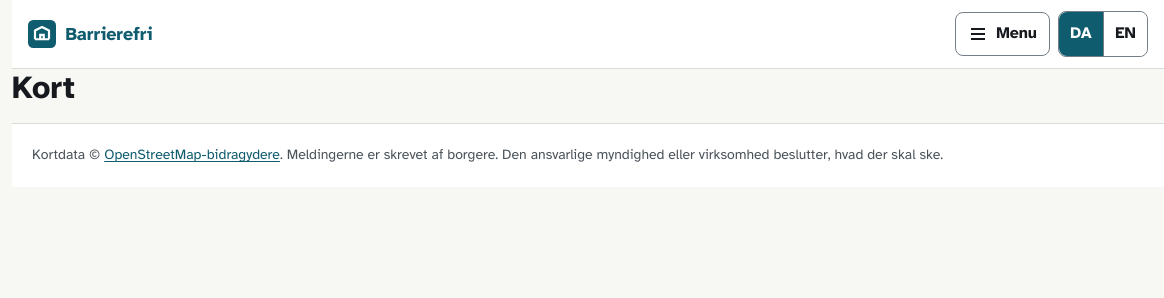
Test case: header on a compact screen › closes after following a link in it
Step 1. Click the button "Menu" → (1003, 34), box [955, 12, 1050, 56]
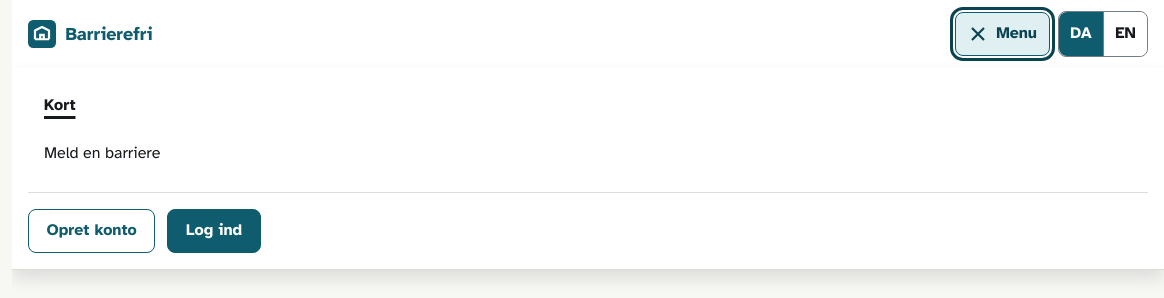
Step 2. Click the link "Meld en barriere" → (102, 153), box [44, 143, 160, 163]
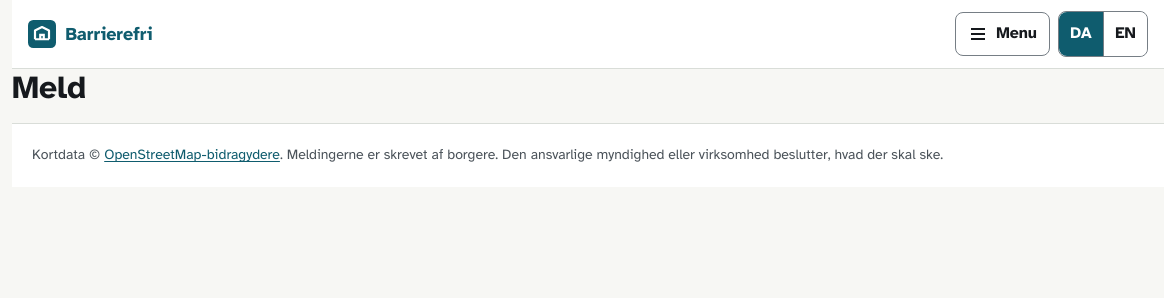
Expected: the heading "Meld" is shown, [12, 68, 86, 107]
Expected: the button "Menu" is collapsed, [955, 12, 1050, 56]
